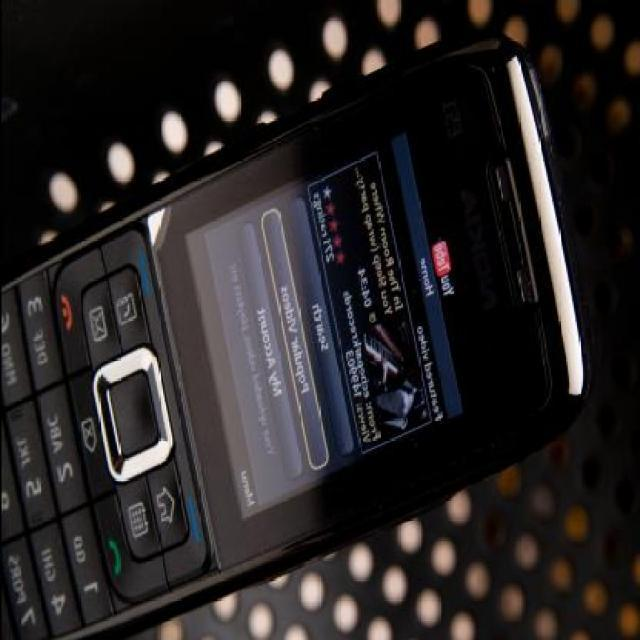phone: (6, 32, 600, 640)
